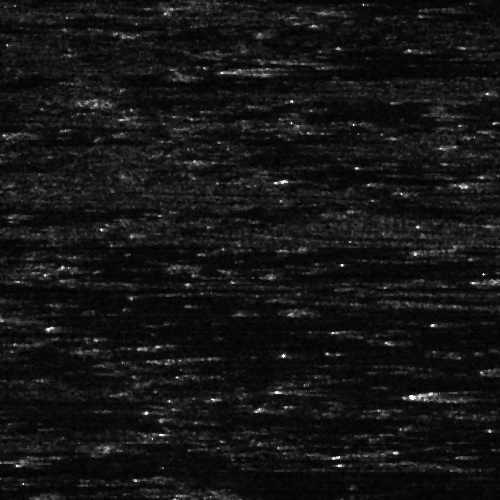object: (97, 338, 222, 347), (194, 65, 309, 74), (144, 353, 207, 362), (79, 94, 142, 103), (460, 365, 500, 376), (285, 56, 348, 61), (436, 109, 499, 114), (269, 306, 310, 313), (410, 248, 451, 253), (469, 179, 500, 184), (0, 314, 18, 319), (491, 277, 500, 282)
shadow: (252, 65, 500, 74), (159, 338, 322, 347), (110, 94, 247, 103), (0, 235, 48, 254), (176, 353, 257, 362), (290, 306, 367, 313), (8, 314, 82, 319), (317, 56, 390, 61), (431, 248, 500, 253), (468, 109, 500, 114)
